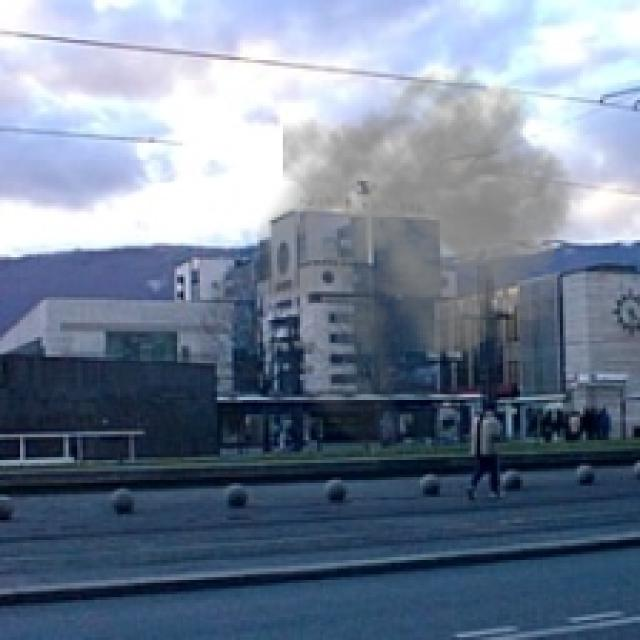smoke: (240, 63, 597, 457)
